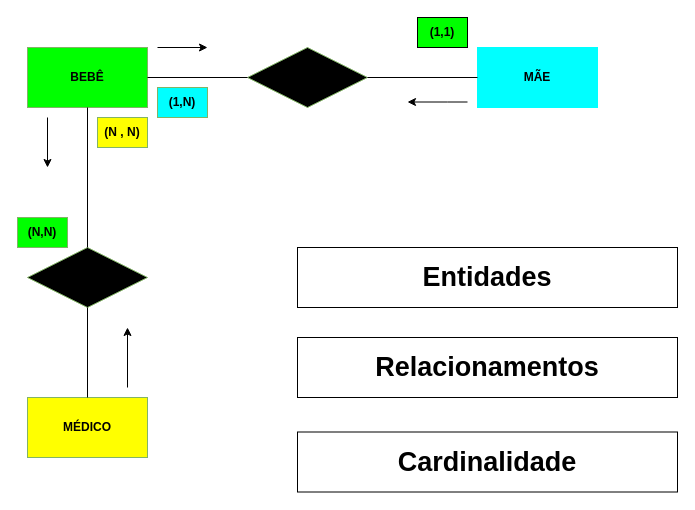
This 695x510 diagram has some shape labels left out. The shapes that lost their labels are listed below. From the top down, each one's box as (x1, y1, x2, y2) in pixels, then its label:
(246, 46, 368, 108): BEBÊ_MÃE
(26, 246, 148, 308): BEBÊ_MÉDICO
